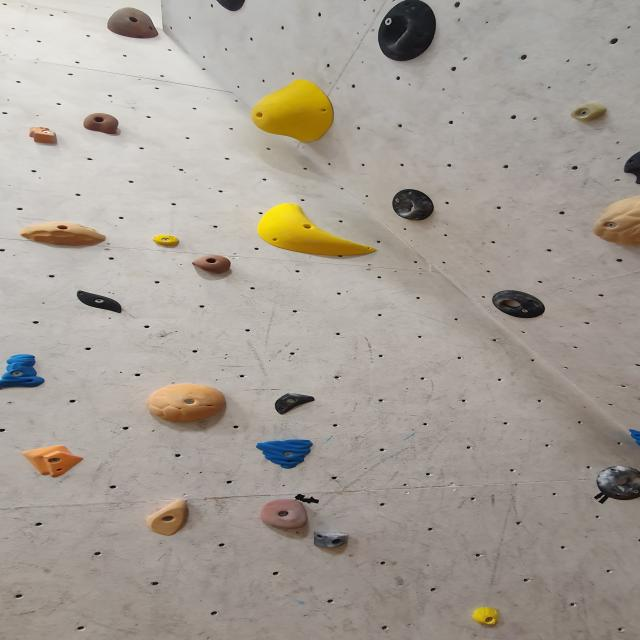Crimp: (20, 446, 85, 480), (257, 440, 315, 470), (273, 392, 317, 413), (152, 234, 183, 248), (628, 428, 640, 449)
Jug: (106, 7, 160, 40), (260, 501, 310, 532), (190, 254, 234, 275), (83, 112, 124, 134)
Pinch: (146, 500, 195, 538), (0, 352, 47, 388), (569, 102, 609, 125), (314, 530, 354, 548), (26, 128, 63, 147)
Pocket: (373, 0, 451, 64), (486, 290, 553, 320), (594, 464, 640, 501), (392, 189, 438, 222), (208, 0, 256, 13)
Sloper: (258, 205, 380, 258), (248, 83, 336, 148), (146, 383, 230, 424), (589, 193, 639, 250), (18, 223, 111, 250), (74, 290, 126, 314), (470, 605, 500, 627)
